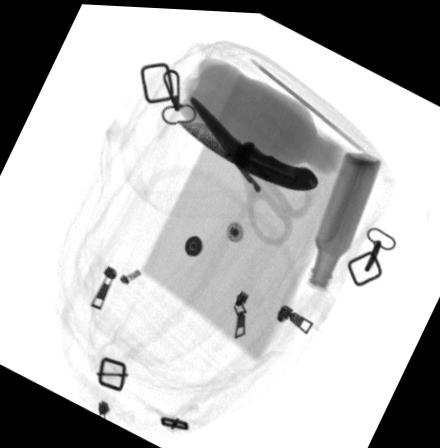Knife: (175, 116, 317, 188)
Scissors: (187, 94, 313, 245)
